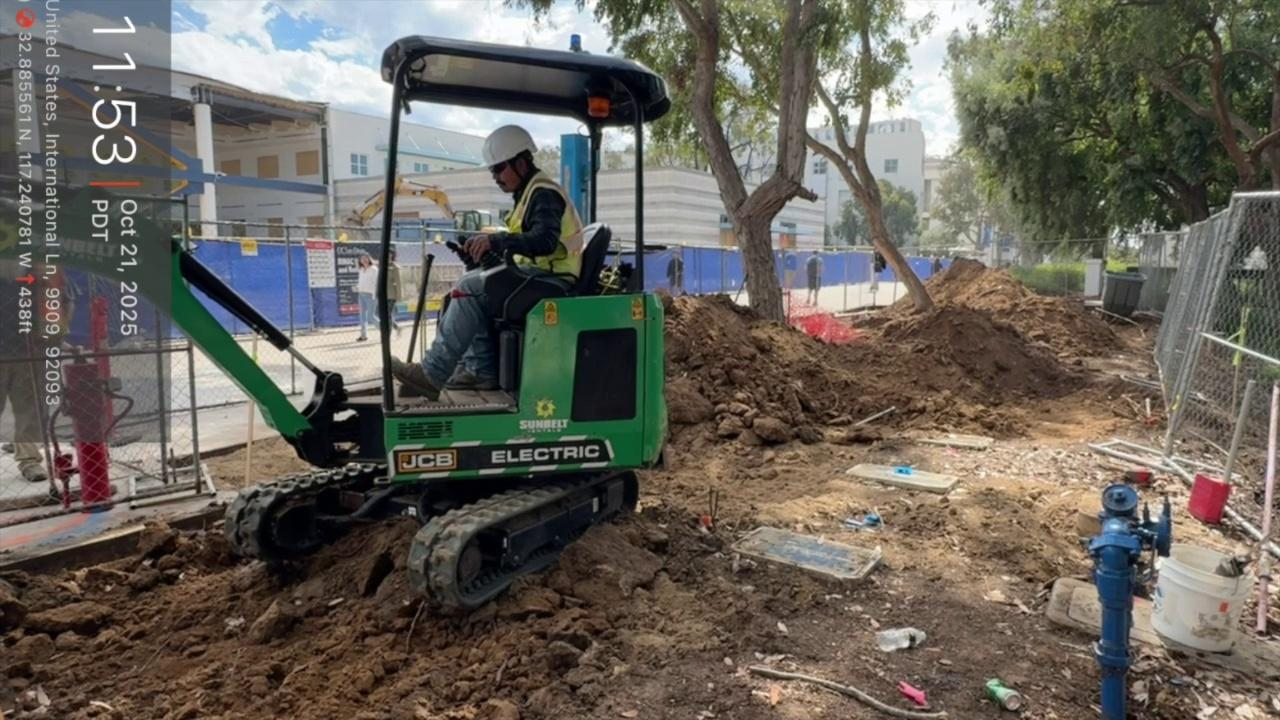Exacavator: (12, 31, 677, 613)
